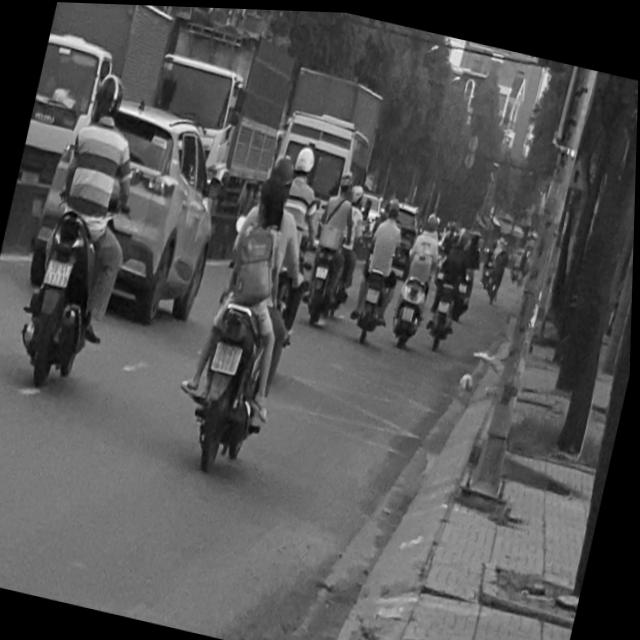helmet: (90, 68, 128, 121), (267, 146, 299, 187)
licenseplate: (168, 130, 332, 480), (3, 57, 161, 397)
motorcyclist: (248, 169, 291, 242)
nohelmet: (213, 337, 243, 370), (44, 257, 72, 285)
